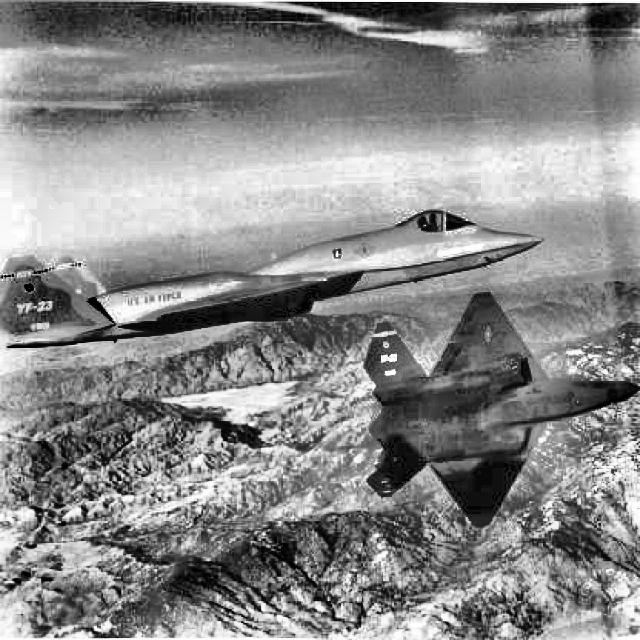YF23: (1, 208, 545, 350), (363, 290, 640, 528)
